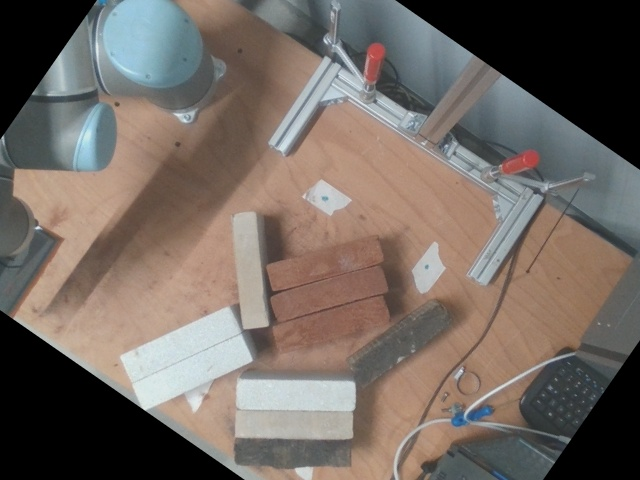brick-side: (120, 307, 237, 382), (133, 336, 251, 410), (355, 305, 455, 386), (266, 237, 383, 292), (274, 296, 388, 351), (271, 268, 386, 320), (232, 215, 264, 328), (238, 381, 354, 411), (237, 439, 349, 466), (236, 413, 352, 438)
